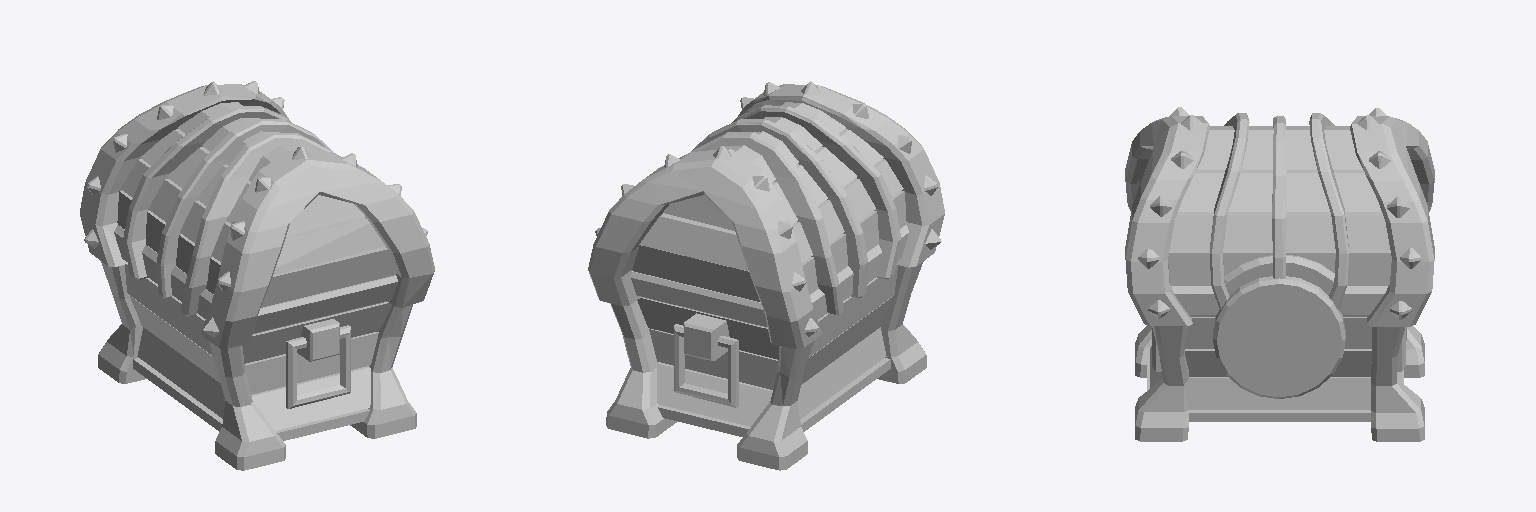
File: chest.obj
3 renders of one model, left to right at view 1: azimuth 30°, elevation 25°; view 2: azimuth 150°, elevation 25°; view 3: azimuth 270°, elevation 25°, orthographic.
Parts seen in each view (by area): view 1: pPlane6; view 2: pPlane6; view 3: pPlane6.
Boxes of the visible parts, x1,y1,x2,y2 form: pPlane6: [80, 81, 434, 470]; pPlane6: [588, 81, 944, 470]; pPlane6: [1125, 107, 1434, 441].
Bounding box in the file's own units: 1.55 × 1.84 × 1.82.